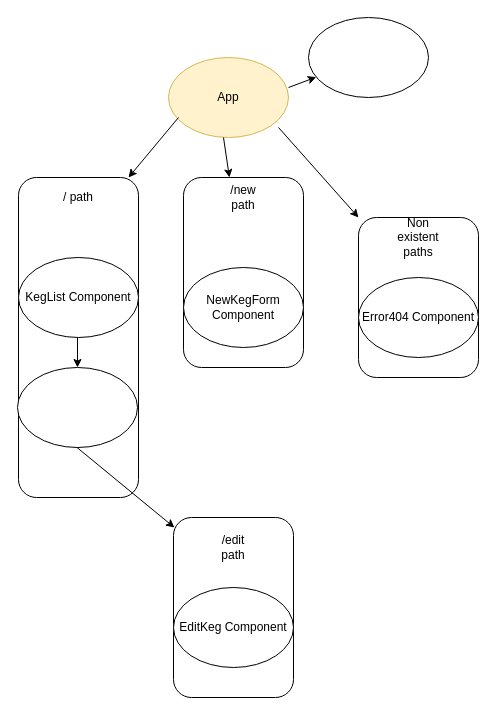
This 496x715 diagram has some shape labels left out. Here are the shapes that lost their labels. From the top down, the centre of each, then its label:
At pixel 368 57: "Navbar Appears in all child components of App".
At pixel 77 407: "Keg Component".
